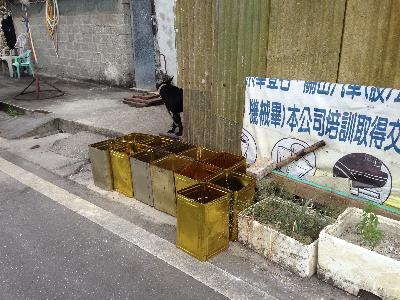bucket: (177, 182, 230, 262), (152, 154, 195, 217), (130, 148, 174, 207), (111, 141, 150, 197), (87, 138, 128, 191)
